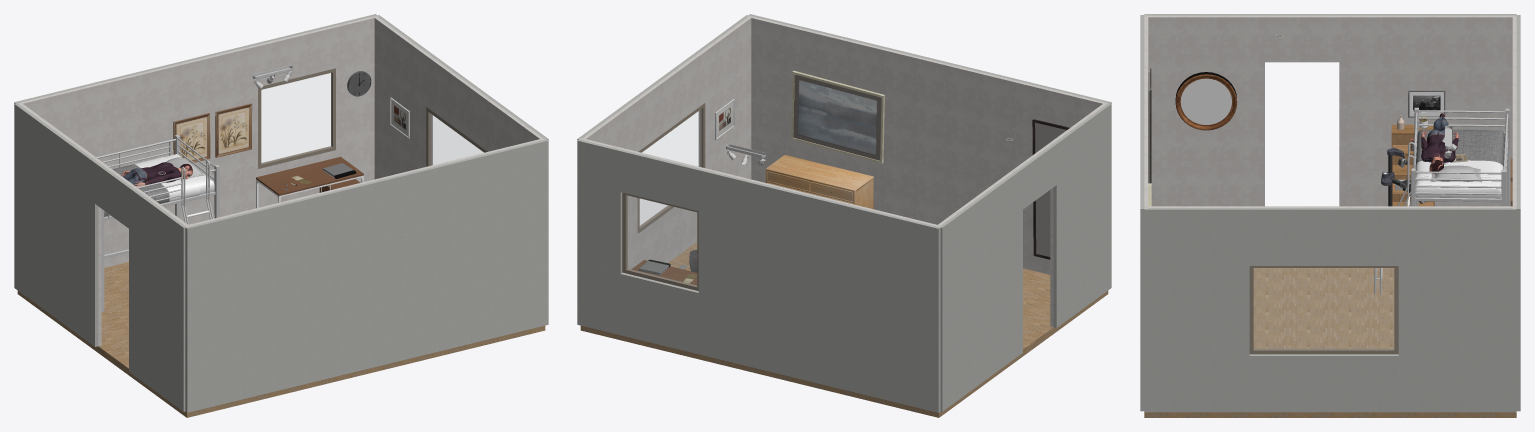
Rendered from backtrack-before.glb.
3 renders of one model, left to right at view 1: azimuth 30°, elevation 25°; view 2: azimuth 150°, elevation 25°; view 3: azimuth 270°, elevation 25°, orthographic. The views are drawn at different scales.
Parts seen in each view (by area): view 1: room__room_geometry_bedroom__v5__0_0, room__room_geometry_bedroom__v1__0_0, room__room_geometry_bedroom__v10__0_0, room__room_geometry_bedroom__v6__0_0, room__room_geometry_bedroom__v0__0_0, room__room_geometry_bedroom__v2__0_0, room__bedroom_bed_0__0_0, room__bedroom_desk_0__E_body_1__0_2, room__bedroom_art_print_1__0_0, room__room_geometry_bedroom__v7__0_0, room__room_geometry_bedroom__v2__0_1, room__bedroom_art_print_0__0_0 (+8 smaller); view 2: room__room_geometry_bedroom__v3__0_0, room__room_geometry_bedroom__v4__0_0, room__room_geometry_bedroom__v10__0_0, room__room_geometry_bedroom__v6__0_0, room__bedroom_print_0__0_0, room__room_geometry_bedroom__v2__0_0, room__room_geometry_bedroom__v0__0_0, room__bedroom_credenza_0__0_0, room__room_geometry_bedroom__v7__0_0, room__bedroom_mirror_0__0_0, room__room_geometry_bedroom__v2__0_1, room__room_geometry_bedroom__v9__0_0 (+5 smaller); view 3: room__room_geometry_bedroom__v8__0_0, room__room_geometry_bedroom__v9__0_0, room__room_geometry_bedroom__v0__0_0, room__room_geometry_bedroom__v7__0_0, room__bedroom_bed_0__0_0, room__bedroom_mirror_1__0_0, room__room_geometry_bedroom__v7__0_1, room__room_geometry_bedroom__v3__0_0, room__room_geometry_bedroom__v5__0_0, room__bedroom_bookcase_0__0_0, room__bedroom_photography_print_0__0_0, room__room_geometry_bedroom__v1__0_0 (+5 smaller).
Part boxes in pixels (<box>): room__room_geometry_bedroom__v5__0_0: <box>185,139,548,412</box>; room__room_geometry_bedroom__v1__0_0: <box>18,15,379,267</box>; room__room_geometry_bedroom__v10__0_0: <box>14,103,185,411</box>; room__room_geometry_bedroom__v6__0_0: <box>373,16,543,179</box>; room__room_geometry_bedroom__v0__0_0: <box>17,262,545,417</box>; room__room_geometry_bedroom__v2__0_0: <box>261,73,331,163</box>; room__bedroom_bed_0__0_0: <box>96,134,219,311</box>; room__bedroom_desk_0__E_body_1__0_2: <box>256,156,363,195</box>; room__bedroom_art_print_1__0_0: <box>215,103,252,157</box>; room__room_geometry_bedroom__v7__0_0: <box>430,114,483,165</box>; room__room_geometry_bedroom__v2__0_1: <box>258,68,335,168</box>; room__bedroom_art_print_0__0_0: <box>173,113,210,162</box>; room__room_geometry_bedroom__v3__0_0: <box>577,139,940,412</box>; room__room_geometry_bedroom__v4__0_0: <box>746,16,1107,274</box>; room__room_geometry_bedroom__v10__0_0: <box>940,103,1111,411</box>; room__room_geometry_bedroom__v6__0_0: <box>581,16,751,269</box>; room__bedroom_print_0__0_0: <box>791,71,884,163</box>; room__room_geometry_bedroom__v2__0_0: <box>627,195,696,285</box>; room__room_geometry_bedroom__v0__0_0: <box>580,242,1108,417</box>; room__bedroom_credenza_0__0_0: <box>765,155,873,209</box>; room__room_geometry_bedroom__v7__0_0: <box>640,109,701,225</box>; room__bedroom_mirror_0__0_0: <box>1032,119,1069,259</box>; room__room_geometry_bedroom__v2__0_1: <box>622,192,698,290</box>; room__room_geometry_bedroom__v9__0_0: <box>936,102,1106,327</box>; room__room_geometry_bedroom__v8__0_0: <box>1144,208,1516,412</box>; room__room_geometry_bedroom__v9__0_0: <box>1144,15,1516,206</box>; room__room_geometry_bedroom__v0__0_0: <box>1144,268,1516,417</box>; room__room_geometry_bedroom__v7__0_0: <box>1254,268,1393,348</box>; room__bedroom_bed_0__0_0: <box>1374,107,1509,294</box>; room__bedroom_mirror_1__0_0: <box>1175,72,1237,130</box>; room__room_geometry_bedroom__v7__0_1: <box>1249,266,1398,354</box>; room__room_geometry_bedroom__v3__0_0: <box>1516,15,1520,411</box>; room__room_geometry_bedroom__v5__0_0: <box>1140,15,1144,411</box>; room__bedroom_bookcase_0__0_0: <box>1391,124,1434,206</box>; room__bedroom_photography_print_0__0_0: <box>1408,90,1445,117</box>; room__room_geometry_bedroom__v1__0_0: <box>1512,15,1516,208</box>.
Size of the model in its own units: 5.6 by 2.8 by 4.6.
Materials: 60 (34 with a texture image).
